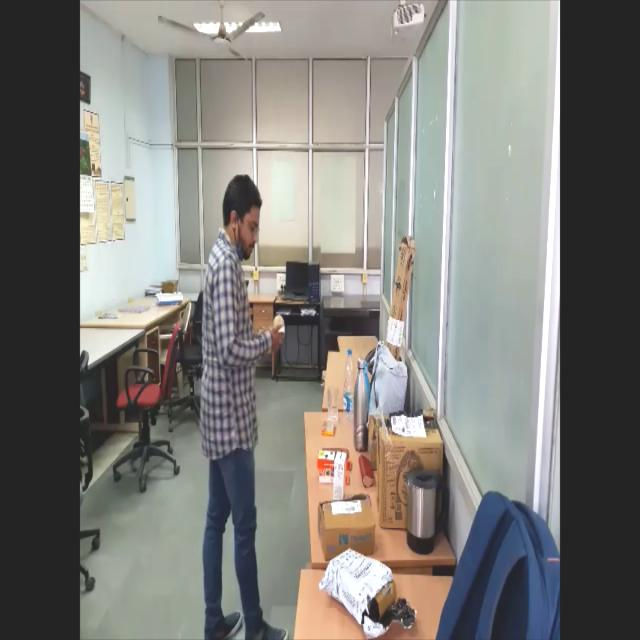normal: (196, 170, 286, 640)
